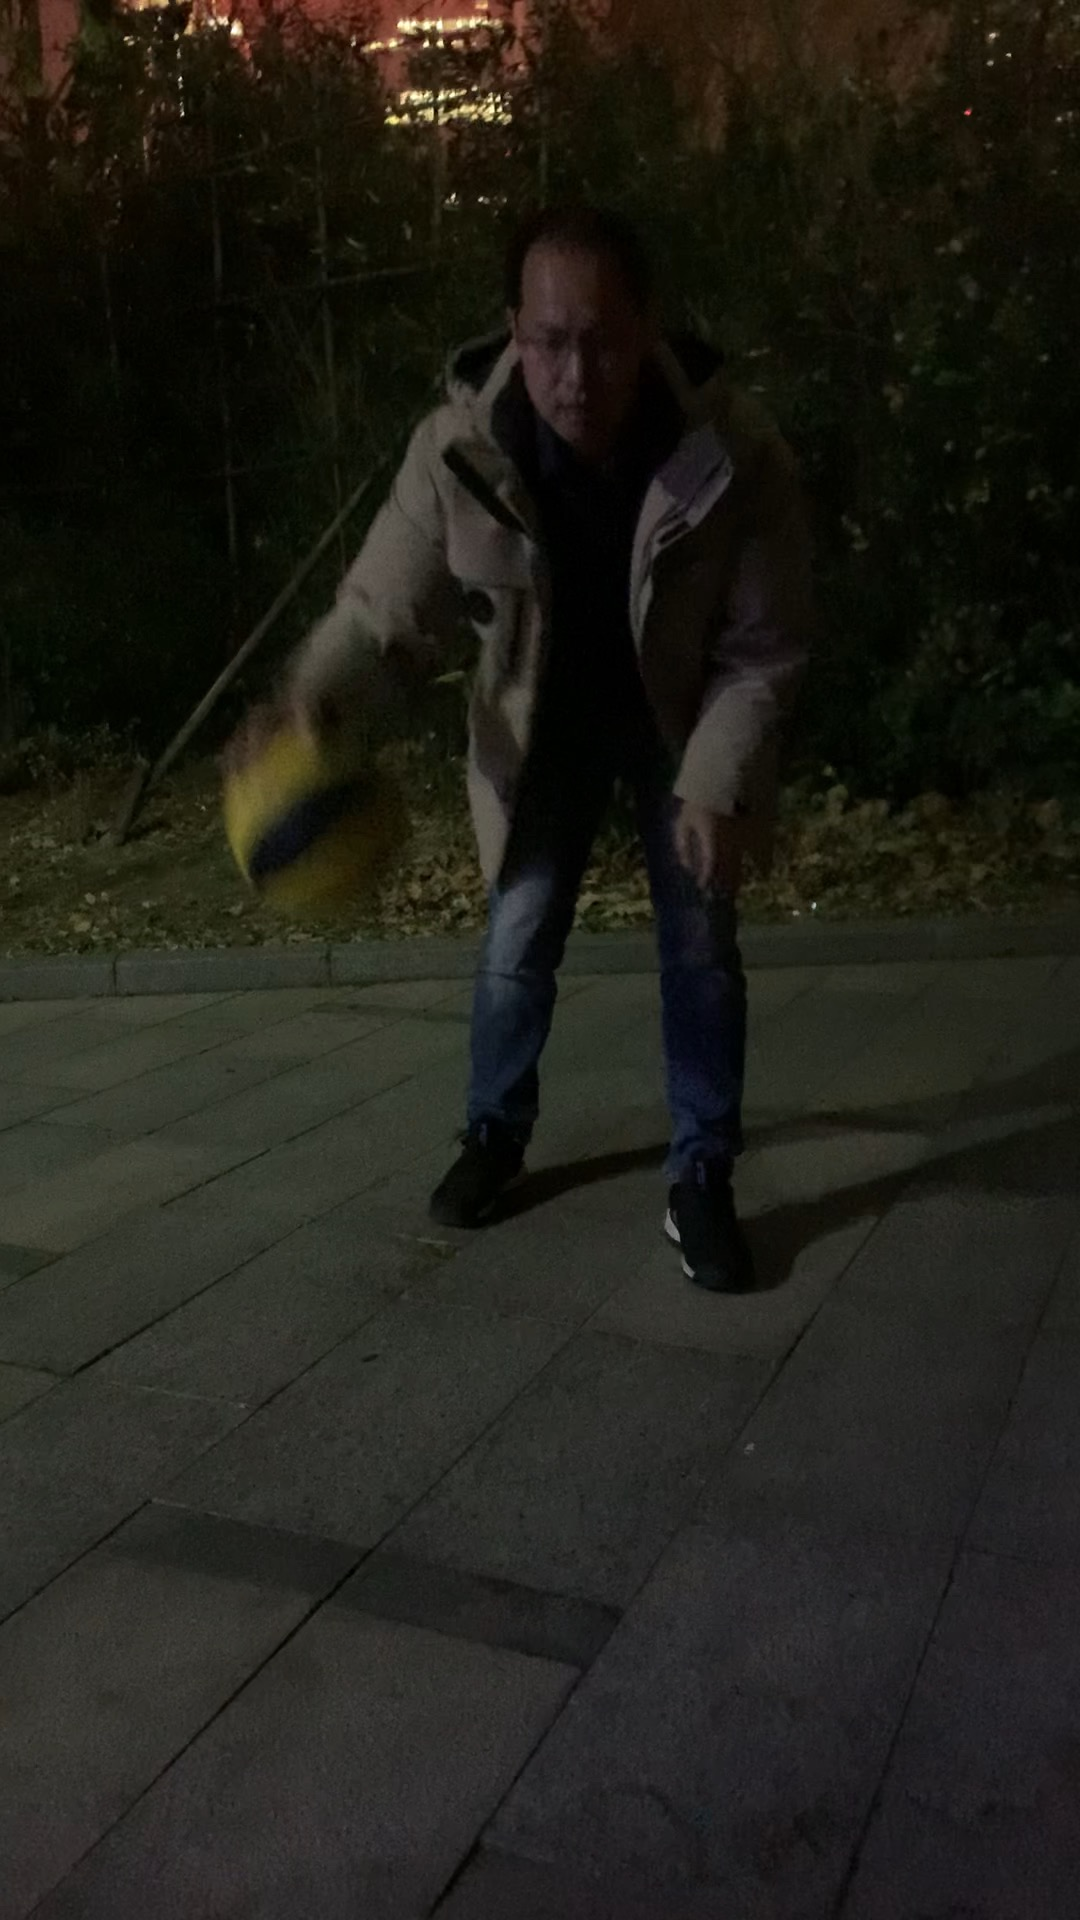ball: (214, 721, 425, 914)
